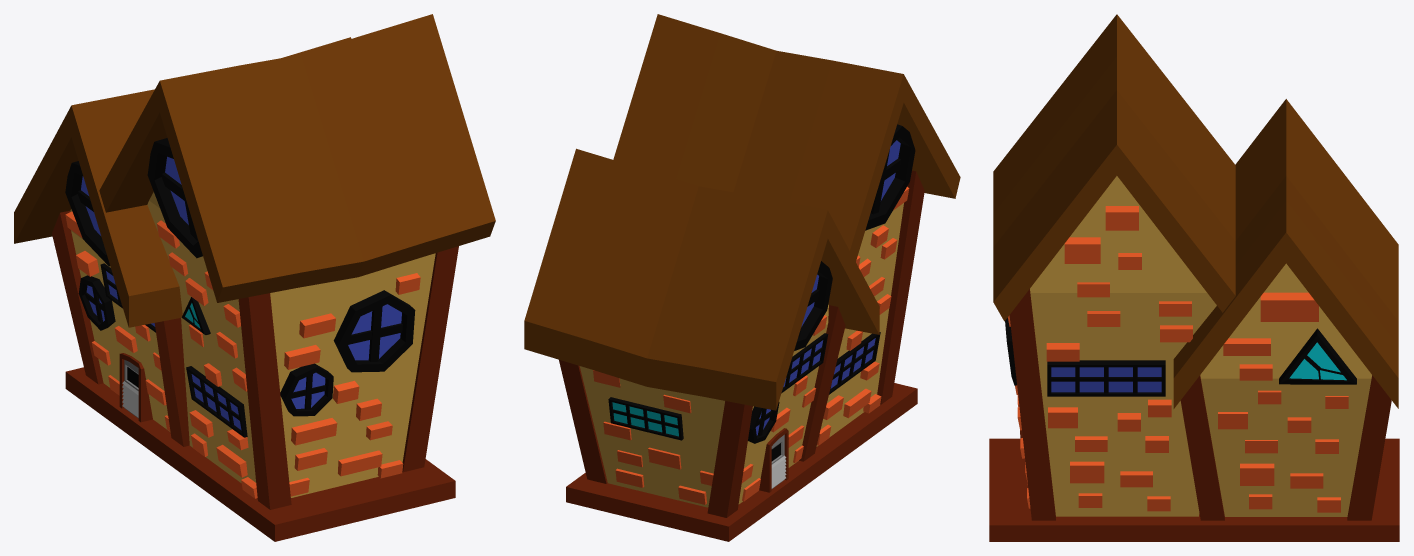
File: CasaraoAmarelo.fbx
3 renders of one model, left to right at view 1: azimuth 30°, elevation 25°; view 2: azimuth 150°, elevation 25°; view 3: azimuth 270°, elevation 25°, orthographic. The views are drawn at different scales.
Parts seen in each view (by area): view 1: CasaraoVerdeAmarelo; view 2: CasaraoVerdeAmarelo; view 3: CasaraoVerdeAmarelo.
Boxes of the visible parts, x1,y1,x2,y2 form: CasaraoVerdeAmarelo: (14,14,495,541); CasaraoVerdeAmarelo: (524,14,960,541); CasaraoVerdeAmarelo: (989,14,1399,541).
Size of the model in its own units: 929 by 1353 by 1205.
